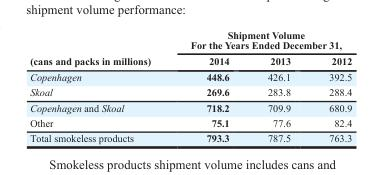table: (29, 28, 351, 143)
table column: (29, 28, 169, 143), (169, 28, 247, 143), (247, 28, 309, 143), (309, 28, 351, 143)
table column header: (29, 28, 351, 68)
table row: (29, 28, 351, 52), (29, 52, 351, 68), (29, 68, 351, 84), (29, 114, 351, 130), (29, 84, 351, 99), (29, 99, 351, 114), (29, 130, 351, 143)
table spanning cell: (29, 28, 169, 68), (169, 28, 351, 52)
